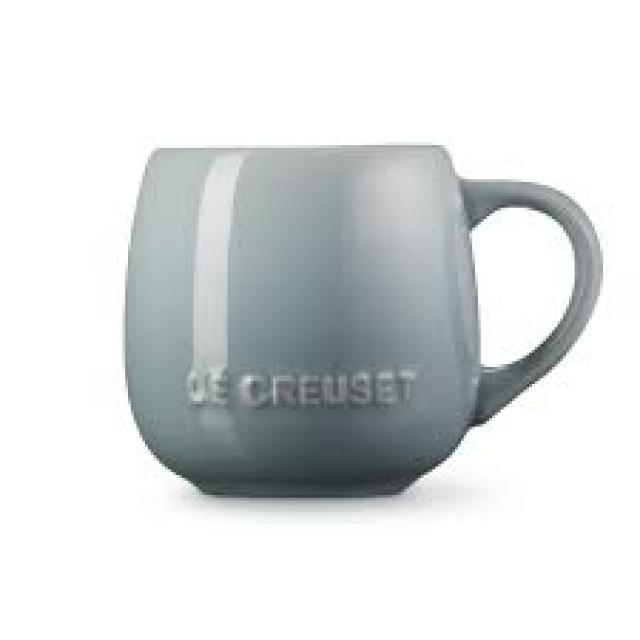taza: (124, 142, 604, 500)
